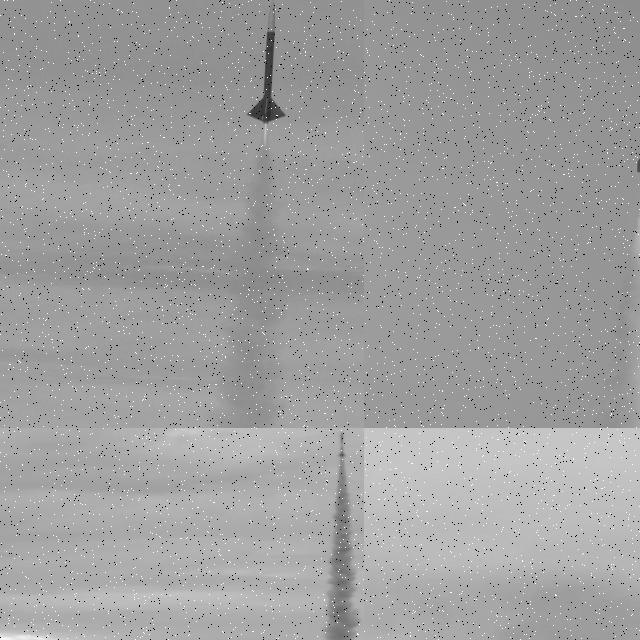Rocket: (247, 0, 287, 123), (626, 65, 640, 182), (337, 431, 345, 457)
